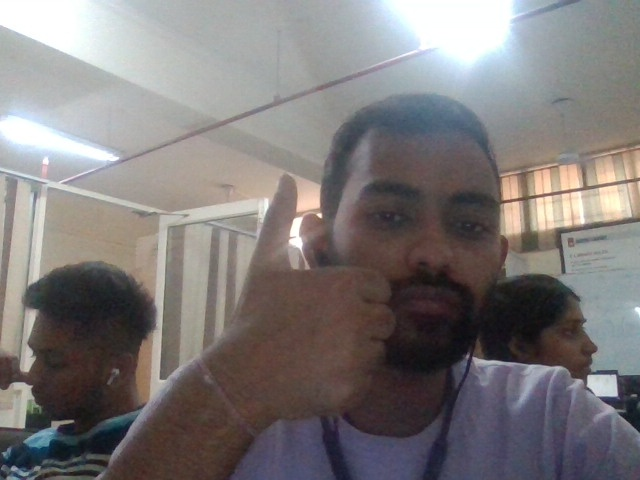Yes: (203, 172, 396, 418)
